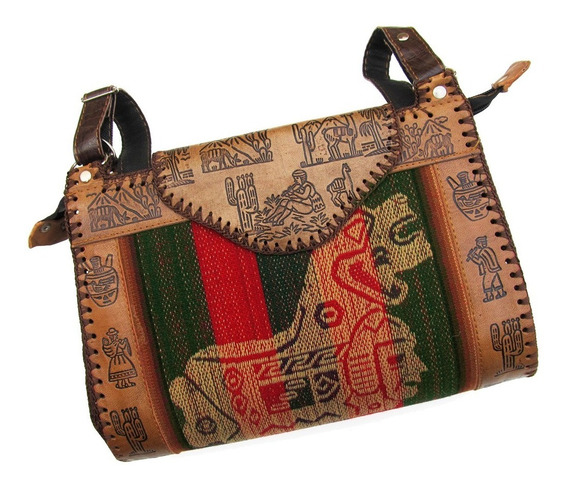cartera: (65, 26, 539, 462)
